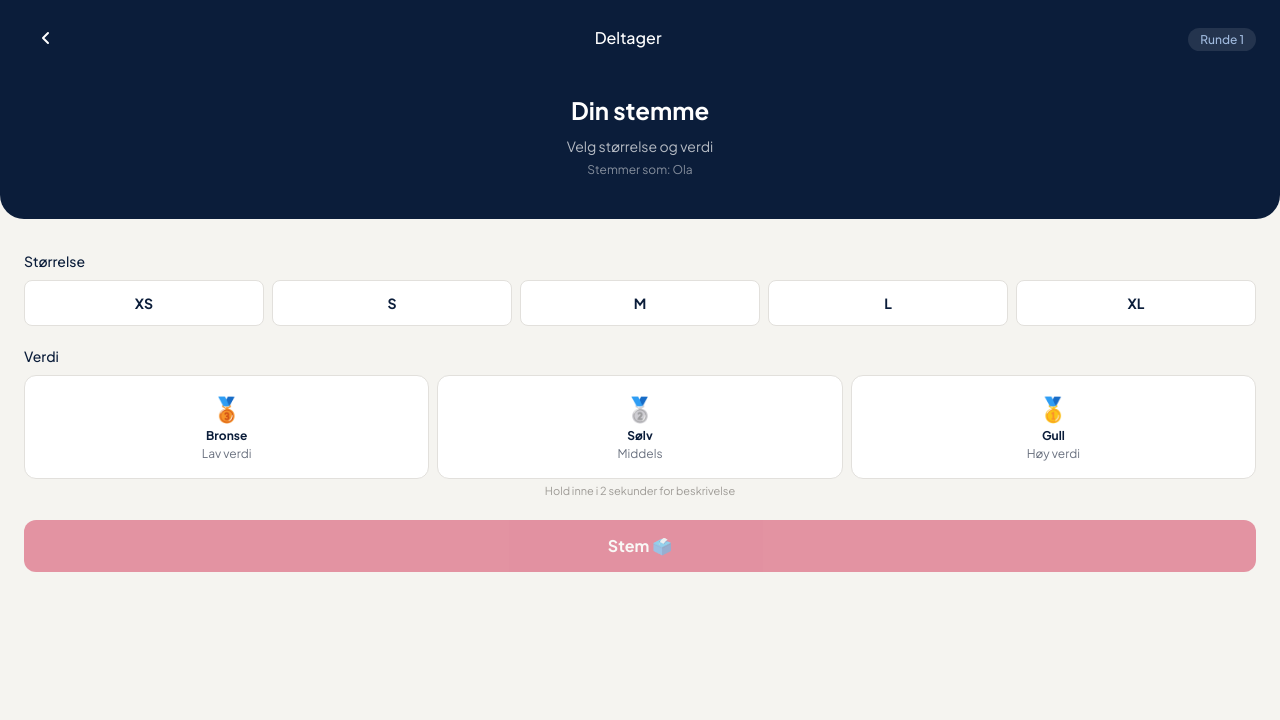
Scenario: VoteForm › åpner bottom sheet med verdi-info etter to sekunders long press på gull-knapp
Press the mouse on the button with aria-label "verdi gull" at (1053, 427), box 851,375 -> 1256,479
Wait 2000 ms
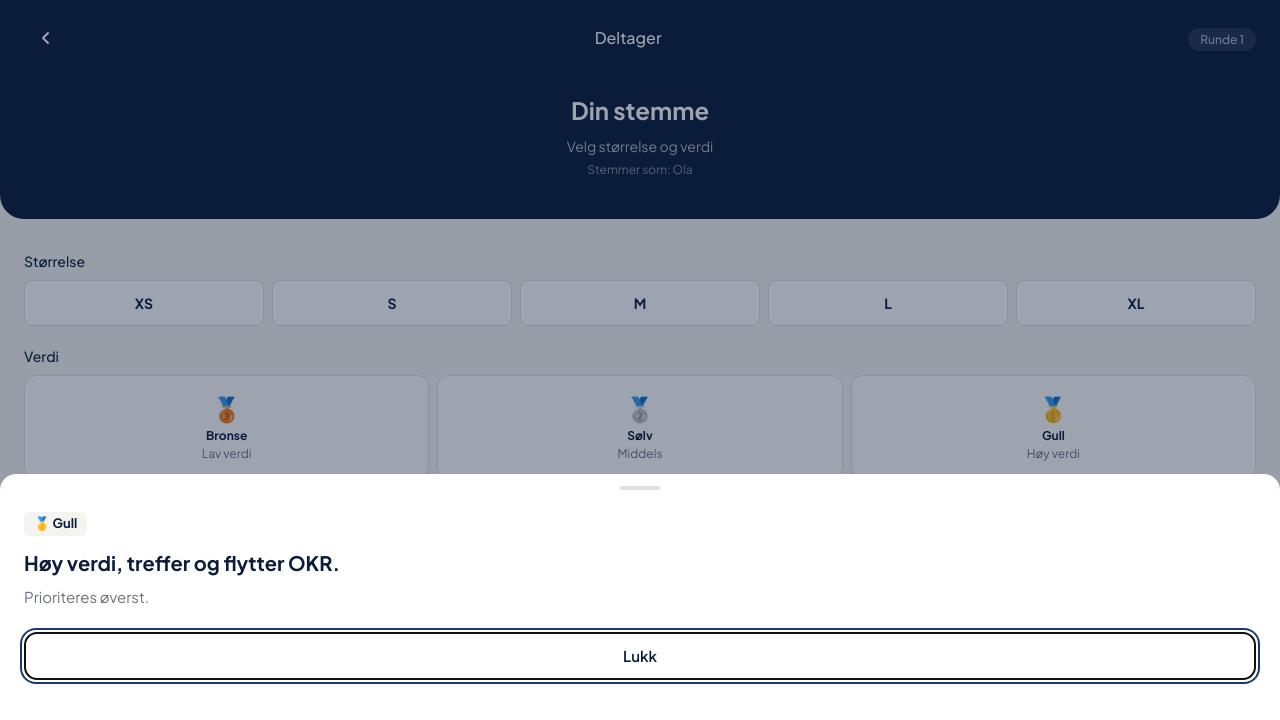
Result: the dialog is shown at 0,474 -> 1279,719
Result: the heading "Høy verdi, treffer og flytter OKR." is shown at 24,550 -> 340,574
Result: the text "Prioriteres øverst." is shown at 24,586 -> 149,606
